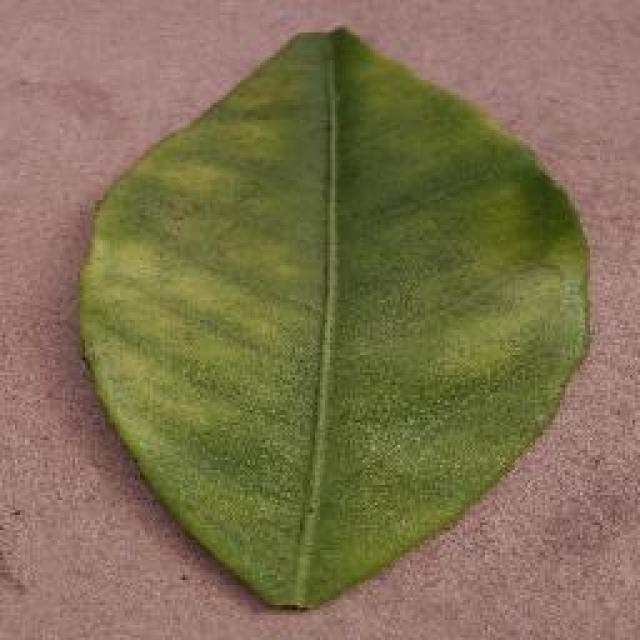Orange_Haunglongbing_Citrus_greening: (141, 84, 550, 532)
